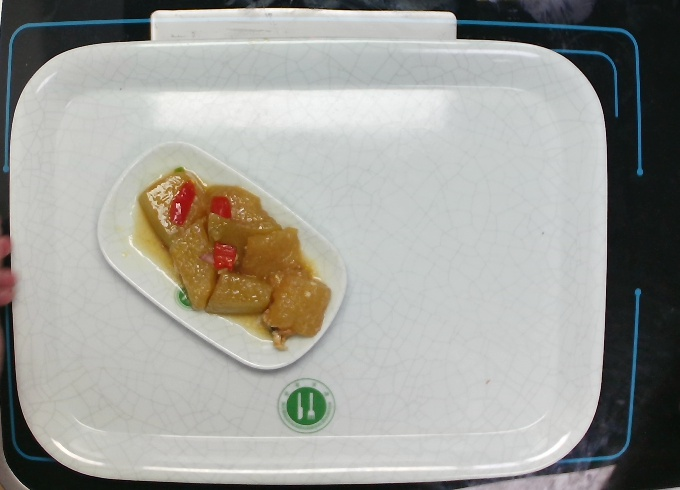WCQzf-Tuo_Yuan_Pan: (94, 136, 352, 375)
